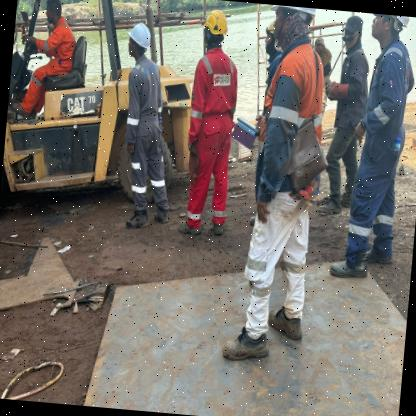bota: (221, 329, 272, 365), (266, 302, 307, 342), (328, 245, 372, 278), (366, 243, 396, 269), (123, 209, 152, 232), (318, 196, 342, 219), (9, 100, 34, 121), (177, 219, 203, 238), (151, 204, 169, 228), (208, 216, 226, 240)
